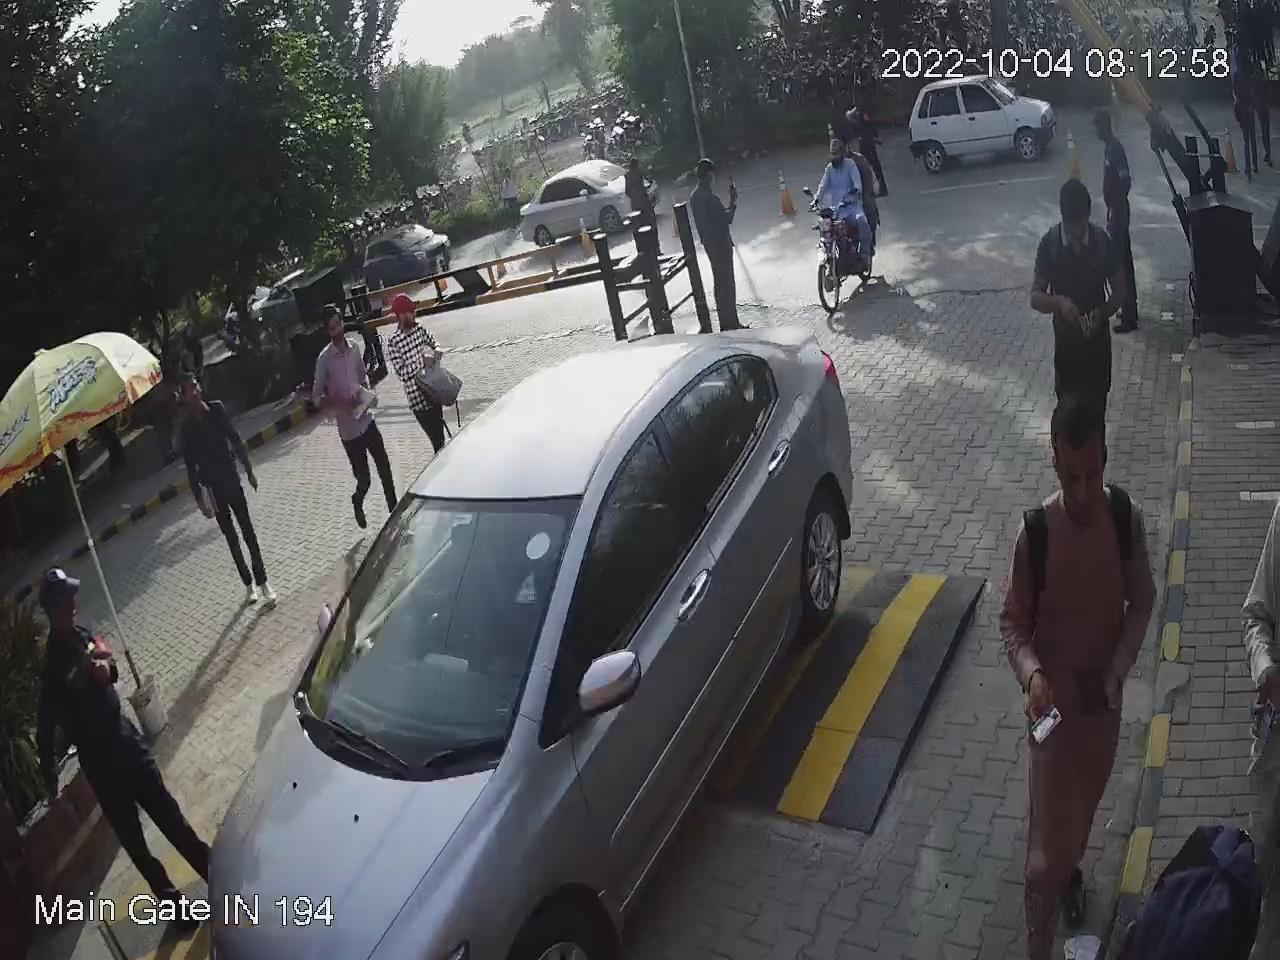windshield: (288, 487, 593, 770)
